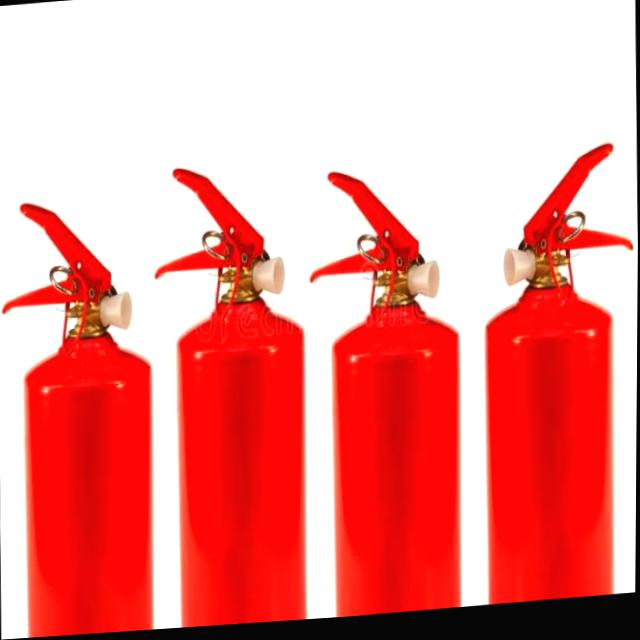FireExtinguisher: (143, 153, 317, 632), (301, 159, 475, 624), (472, 140, 639, 611), (0, 185, 164, 640)
